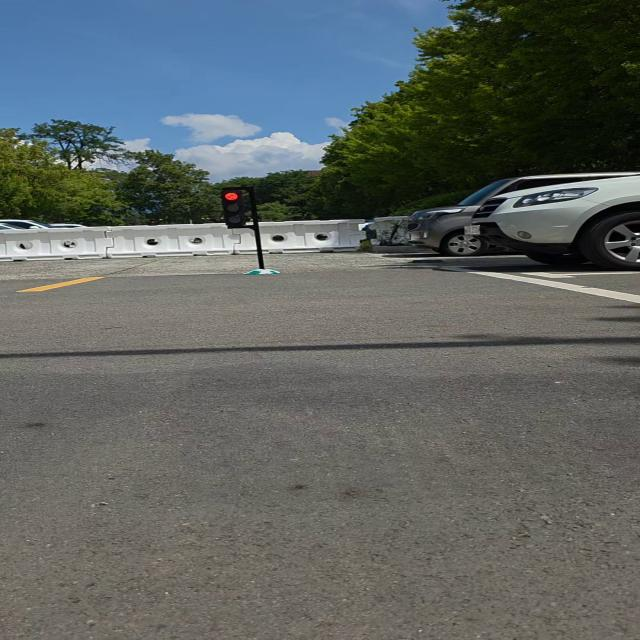red: (213, 189, 255, 232)
